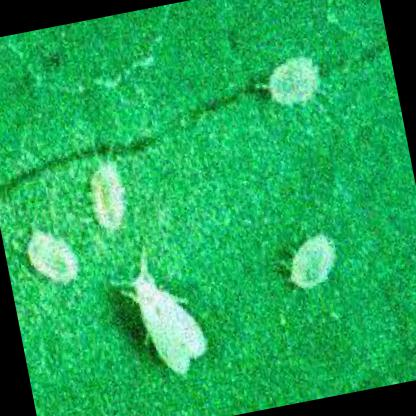whitefly: (123, 264, 207, 379)
